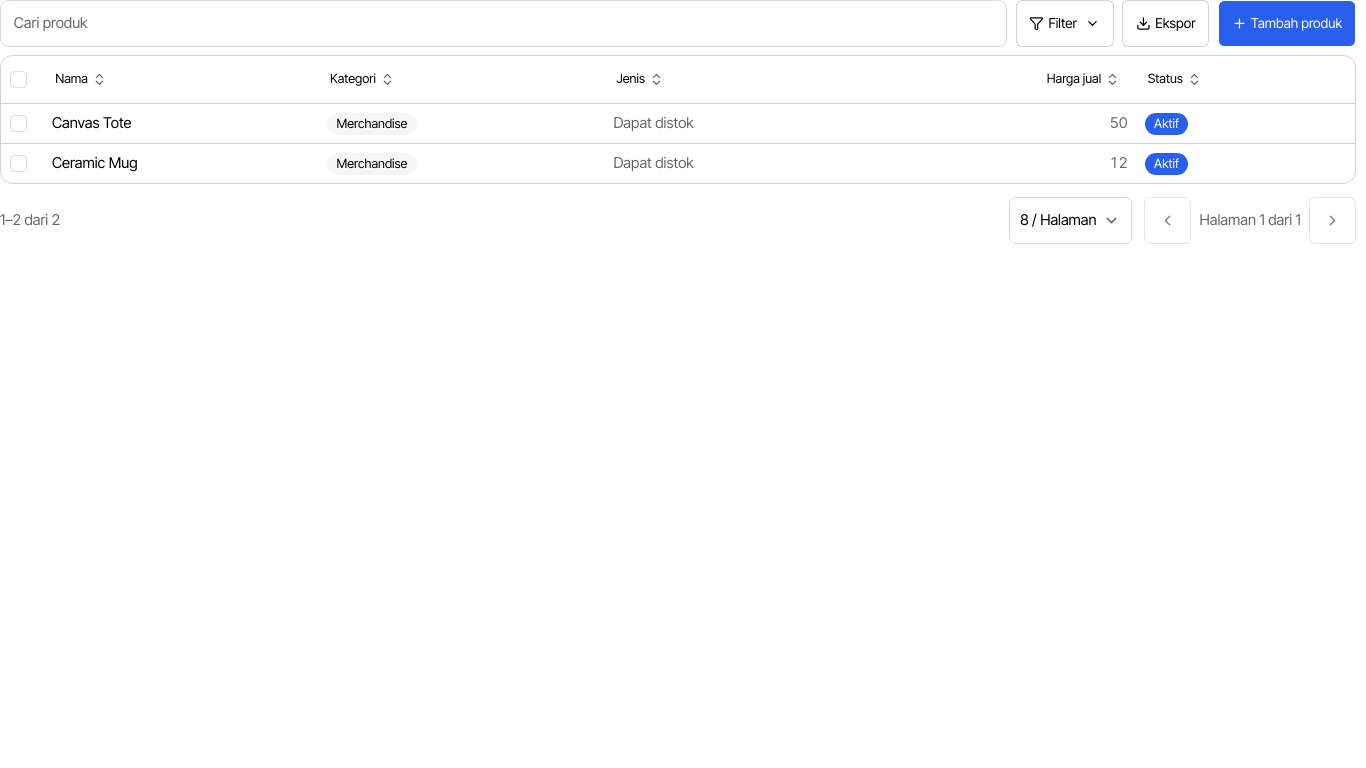
Test: ProductsSection › opens the item dialog from the add button
Check: the link "Canvas Tote" is shown, box [52,114,132,132]
Click the button "Tambah produk" at (1287,23), box [1218,0,1356,47]
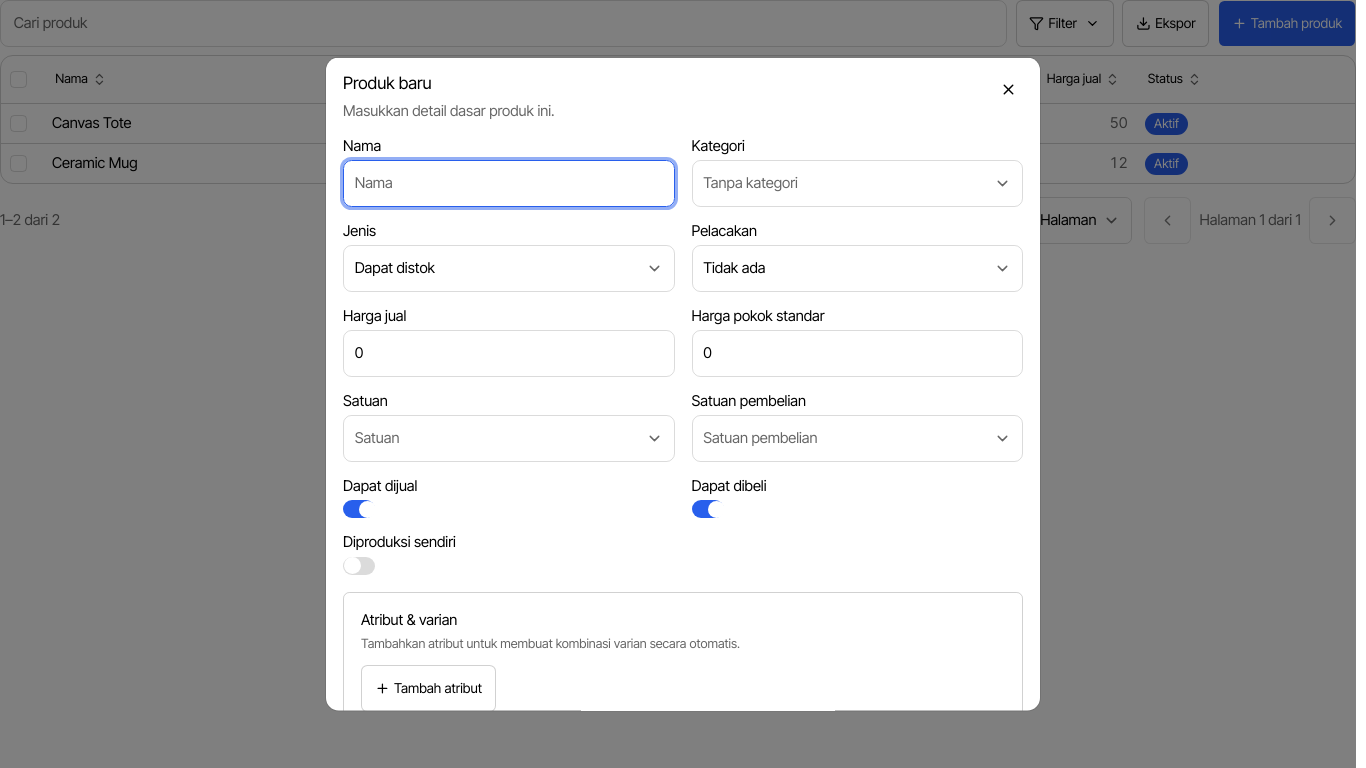
Check: the dialog is shown, box [326,58,1040,710]
Check: the heading "Produk baru" is shown, box [343,73,432,93]
